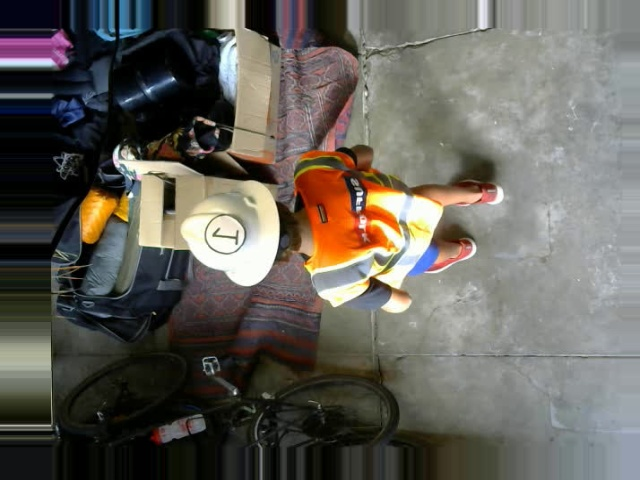one: (202, 214, 245, 254)
